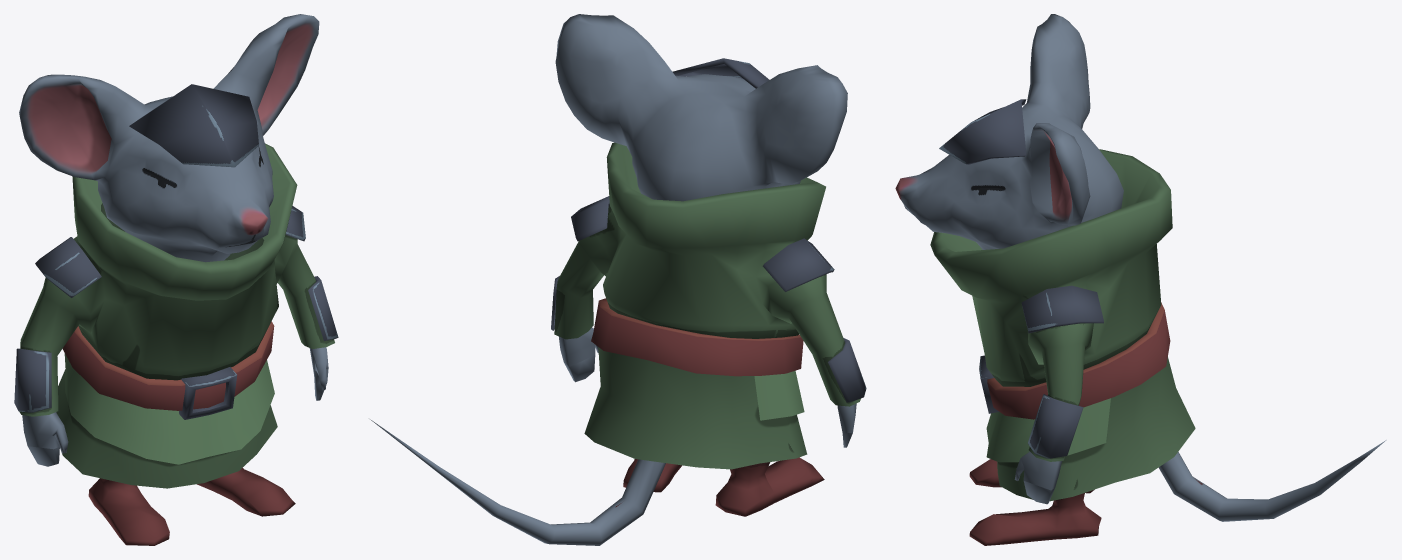
The model's file is rat_mob.glb.
3 renders of one model, left to right at view 1: azimuth 30°, elevation 25°; view 2: azimuth 150°, elevation 25°; view 3: azimuth 270°, elevation 25°, orthographic. The views are drawn at different scales.
Visible parts, largest first — view 1: Plane; view 2: Plane; view 3: Plane.
Part boxes in pixels (x1,y1,x2,y2): Plane: (14,14,338,545); Plane: (370,14,866,545); Plane: (895,14,1386,545).
Size of the model in its own units: 1.17 by 1.53 by 1.57.
Materials: 2 (2 with a texture image).
